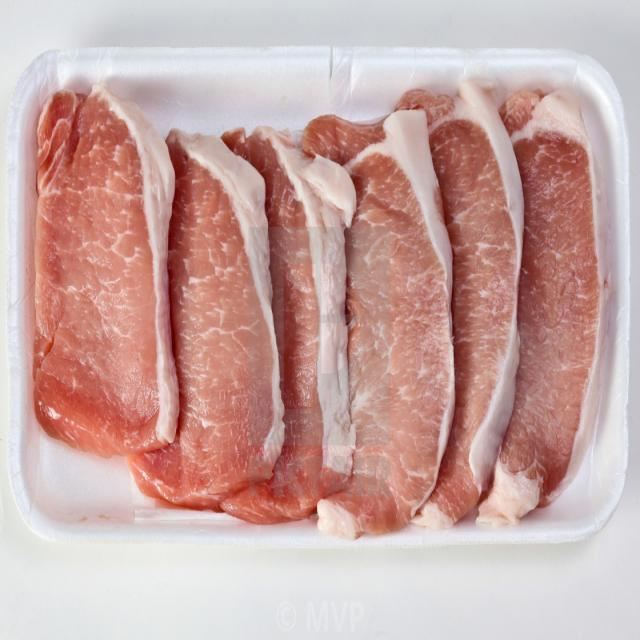Pork: (124, 99, 288, 514), (218, 101, 359, 531), (385, 83, 521, 528), (485, 82, 615, 525), (322, 107, 455, 530), (37, 81, 182, 462)
